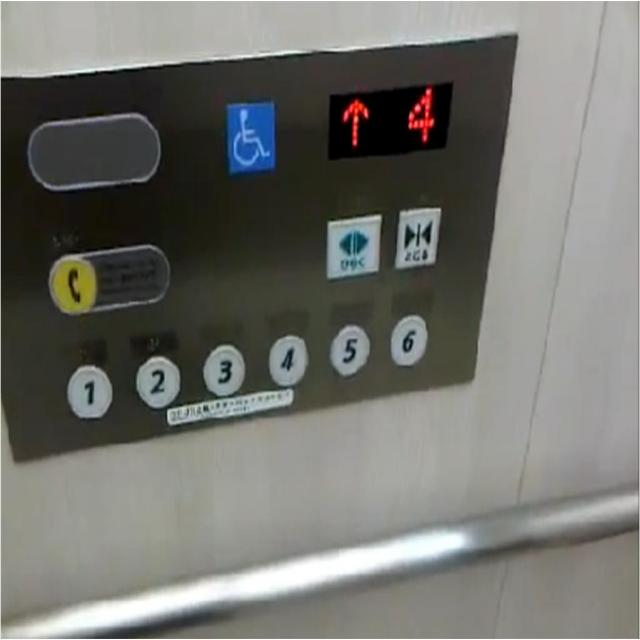1: (65, 360, 113, 421)
2: (133, 351, 180, 409)
3: (200, 342, 248, 398)
4: (268, 329, 308, 393)
5: (326, 321, 372, 378)
6: (387, 312, 427, 370)
CH: (225, 99, 275, 179)
call: (46, 251, 97, 315)
close: (395, 204, 441, 274)
led: (326, 80, 452, 161)
open: (323, 214, 380, 276)
